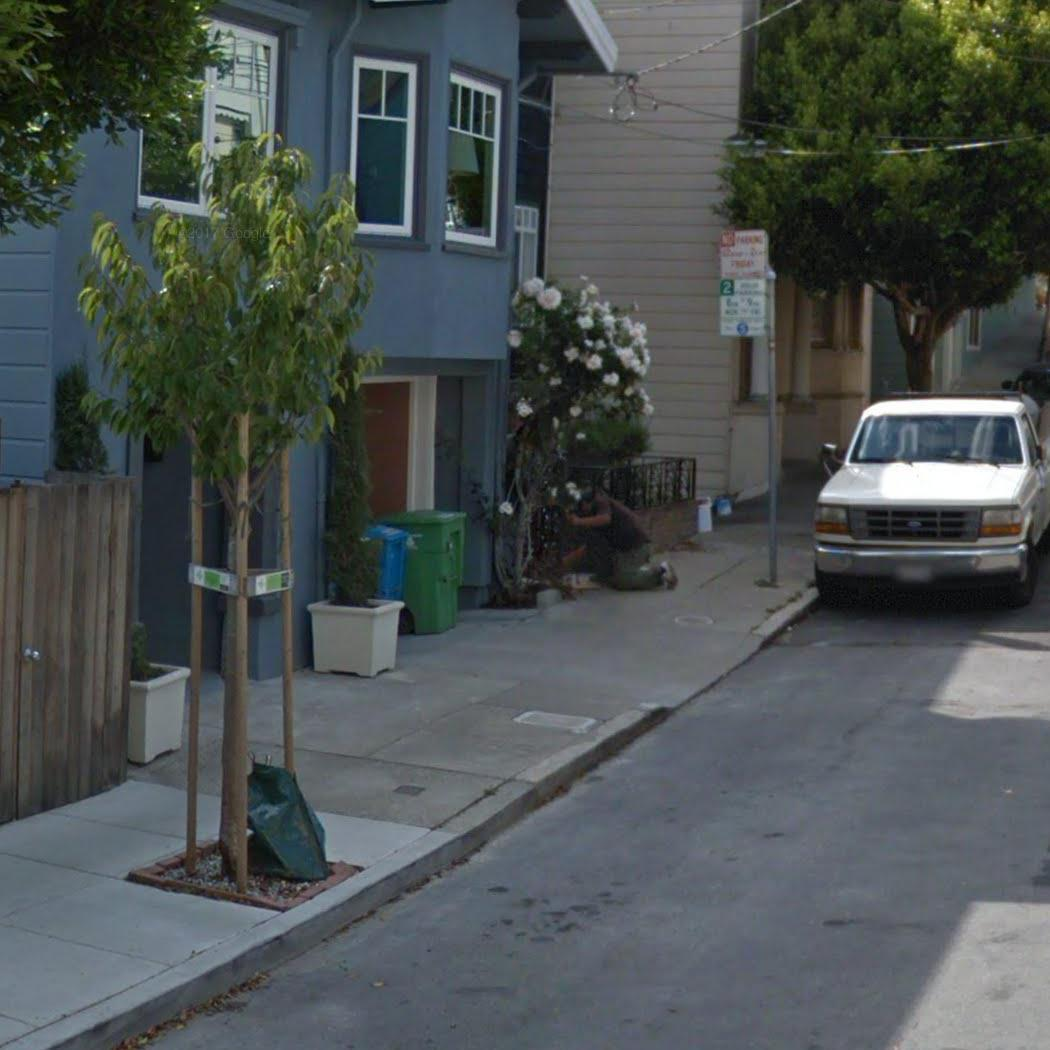2 Hour Parking: (717, 277, 774, 339)
No Parking: (714, 227, 773, 281)
